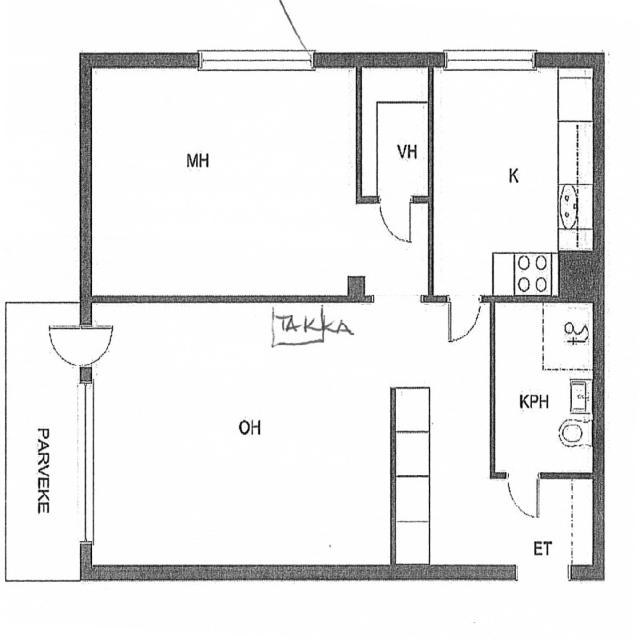door: (92, 309, 380, 572), (83, 68, 360, 299), (1, 300, 91, 594), (446, 294, 482, 344), (504, 474, 541, 522), (378, 198, 412, 244)
window: (440, 46, 537, 76), (368, 292, 425, 305)
zone: (429, 67, 582, 293), (490, 297, 595, 478), (359, 66, 431, 202), (46, 322, 90, 368), (76, 320, 120, 366)
